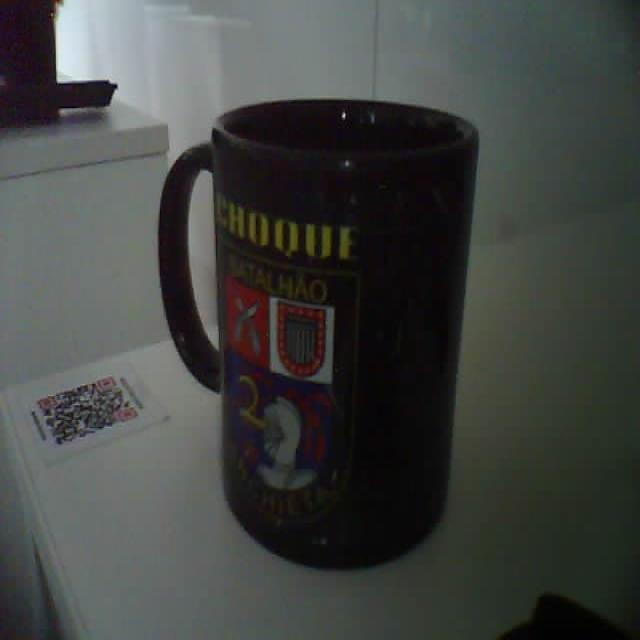caneca: (159, 99, 478, 565)
